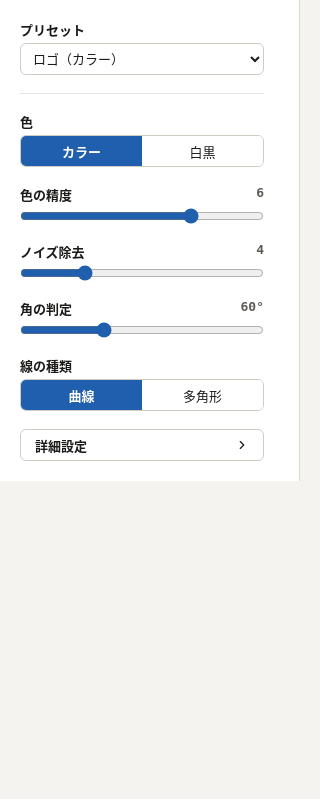
Scenario: ParamsPanel › hides color-only items in binary mode (both via preset and toggle)
The width and height of the screenshot is (320, 799).
Check: the slider labelled "色の精度 6" is shown, box 20,208 -> 264,224
# Open advanced settings
Click the button "詳細設定" at (142, 445), box 20,429 -> 264,461
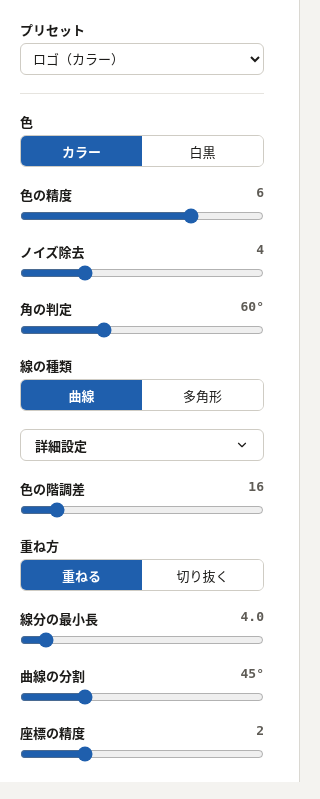
Check: the slider labelled "色の階調差 16" is shown, box 20,502 -> 264,518
Check: the text "重ね方" is shown, box 20,537 -> 59,555
# Switch to binary via segmented button
Click the button "白黒" at (202, 151), box 142,136 -> 263,166
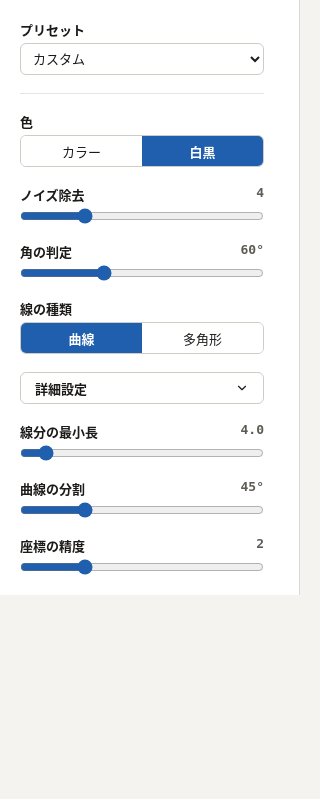
Check: the text labelled "色の精度" is gone
Check: the text labelled "色の階調差" is gone
Check: the text "重ね方" is gone
# Selecting binary preset also keeps them hidden
Select "白黒" in the dropdown labelled "プリセット" at (142, 59), box 20,43 -> 264,75
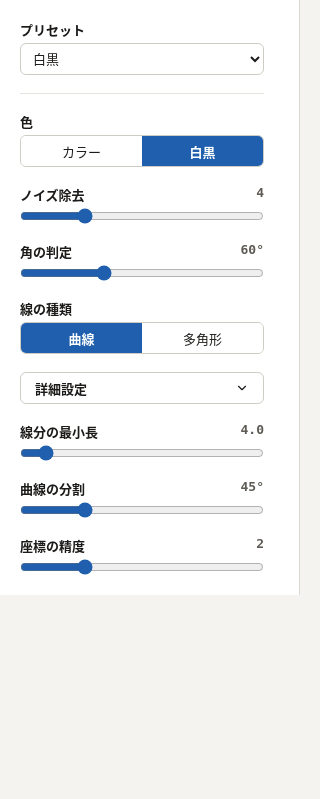
Check: the text labelled "色の精度" is not shown
Check: the text labelled "色の階調差" is not shown
# Switching back to color mode restores them
Click the button "カラー" at (82, 151), box 21,136 -> 142,166
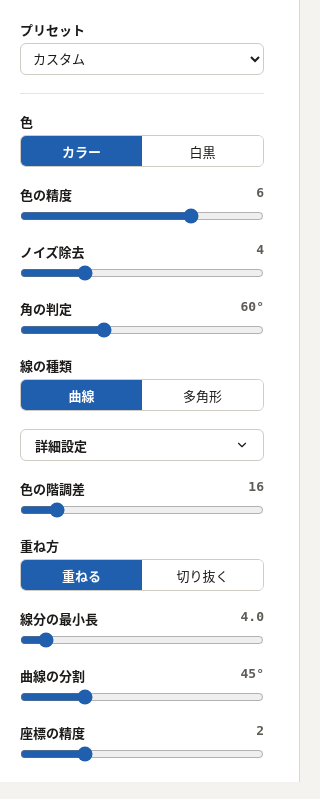
Check: the slider labelled "色の精度 6" is shown, box 20,208 -> 264,224
Check: the slider labelled "色の階調差 16" is shown, box 20,502 -> 264,518
Check: the text "重ね方" is shown, box 20,537 -> 59,555
